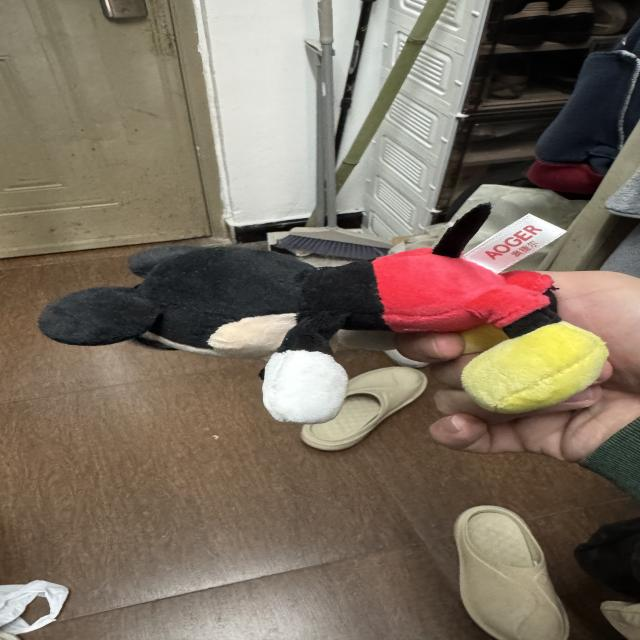mickey: (40, 205, 607, 423)
